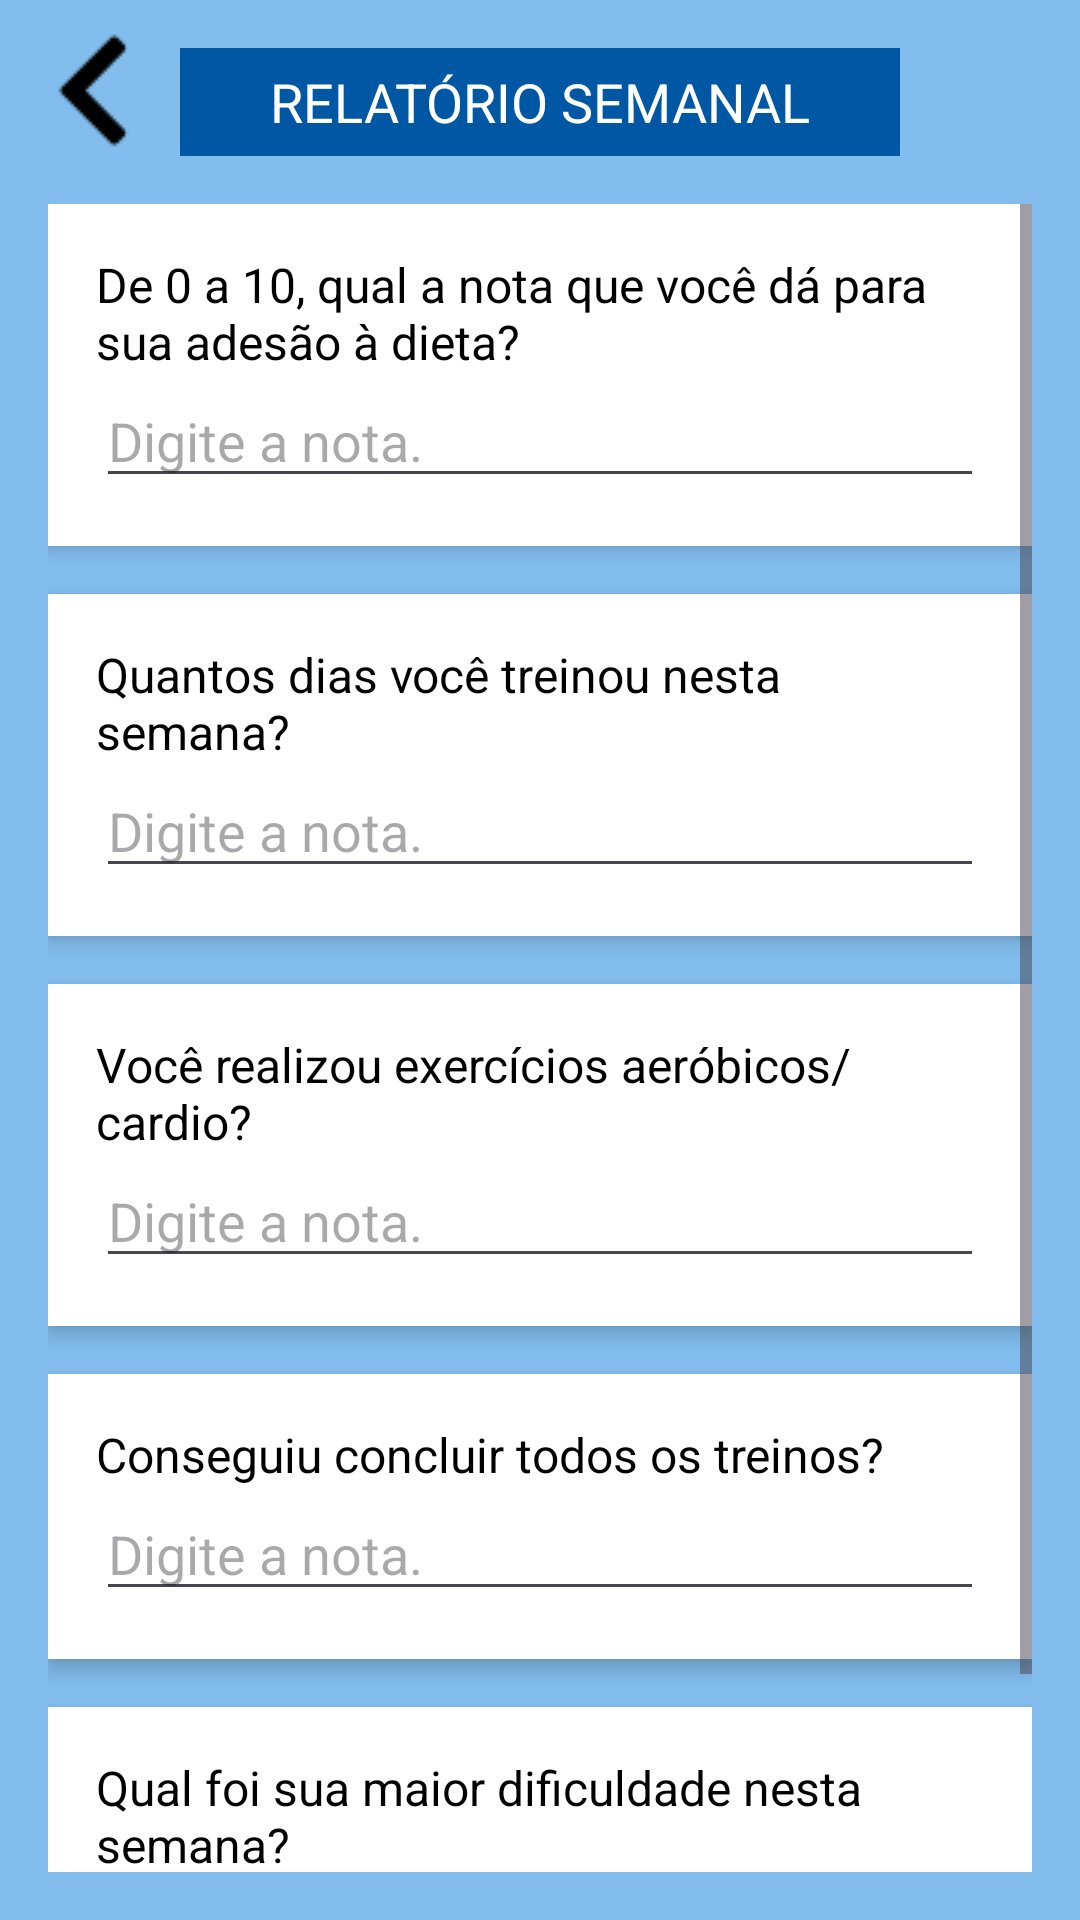

Icon bounding boxes for this 1080w x 1920h phone screenshot, format bbox=[x1, y1, x2, y2]:
Botão para voltar à tela anterior: bbox=[58, 34, 127, 147]
